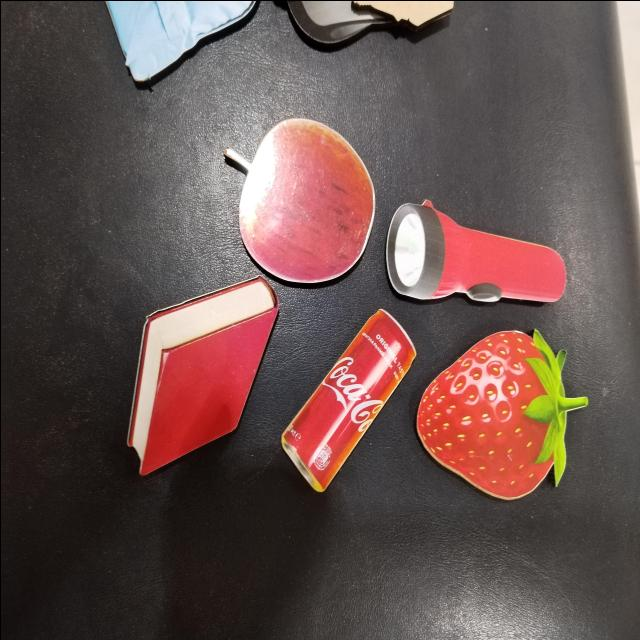Other Objects: (221, 94, 387, 307), (276, 300, 423, 496), (378, 189, 571, 337)
